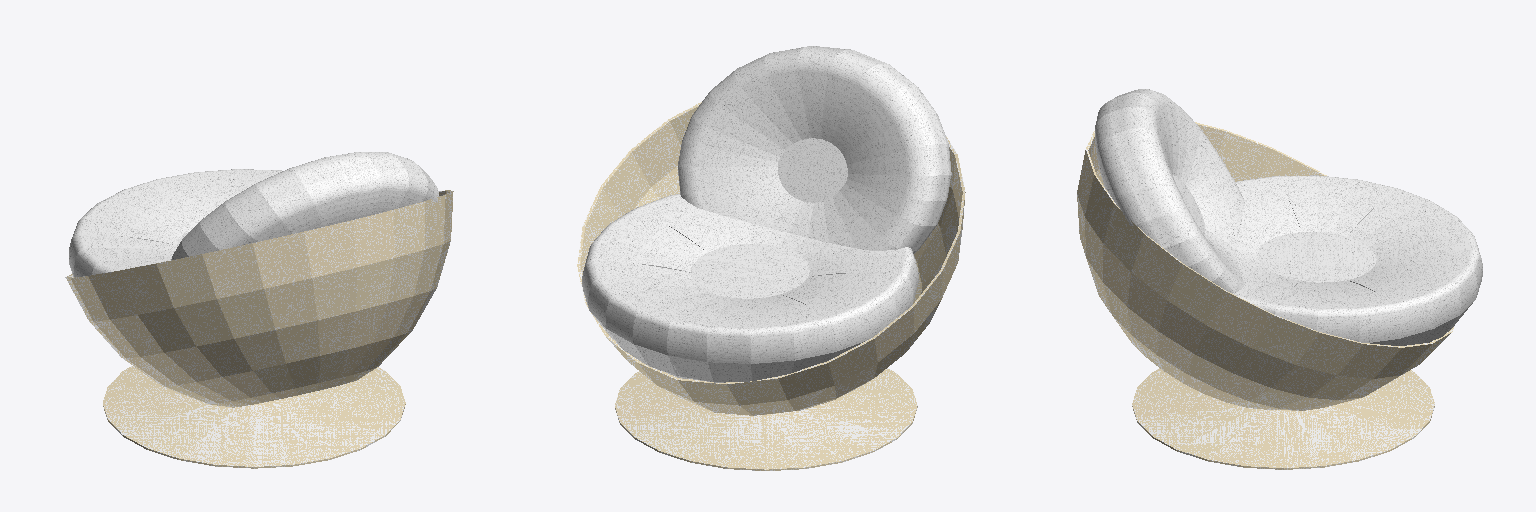
The picture shows the model from 3 angles: view 1: azimuth 30°, elevation 25°; view 2: azimuth 150°, elevation 25°; view 3: azimuth 270°, elevation 25°; orthographic projection.
Parts seen in each view (by area): view 1: mesh1_mesh1-geometry, mesh7_mesh7-geometry, mesh2_mesh2-geometry, mesh8_mesh8-geometry; view 2: mesh8_mesh8-geometry, mesh2_mesh2-geometry, mesh1_mesh1-geometry, mesh7_mesh7-geometry; view 3: mesh1_mesh1-geometry, mesh8_mesh8-geometry, mesh2_mesh2-geometry, mesh7_mesh7-geometry.
Boxes of the visible parts, box(x1,y1,x2,y2) form: mesh1_mesh1-geometry: box(65, 190, 453, 407); mesh7_mesh7-geometry: box(103, 366, 405, 468); mesh2_mesh2-geometry: box(171, 152, 439, 259); mesh8_mesh8-geometry: box(69, 169, 281, 276); mesh8_mesh8-geometry: box(582, 194, 918, 383); mesh2_mesh2-geometry: box(678, 46, 951, 253); mesh1_mesh1-geometry: box(577, 102, 965, 415); mesh7_mesh7-geometry: box(615, 368, 917, 470); mesh1_mesh1-geometry: box(1077, 122, 1455, 410); mesh8_mesh8-geometry: box(1233, 175, 1482, 345); mesh2_mesh2-geometry: box(1095, 89, 1244, 293); mesh7_mesh7-geometry: box(1132, 368, 1434, 469).
Size of the model in its own units: 0.6027 by 0.5041 by 0.6186.
4 materials, 1 textured.